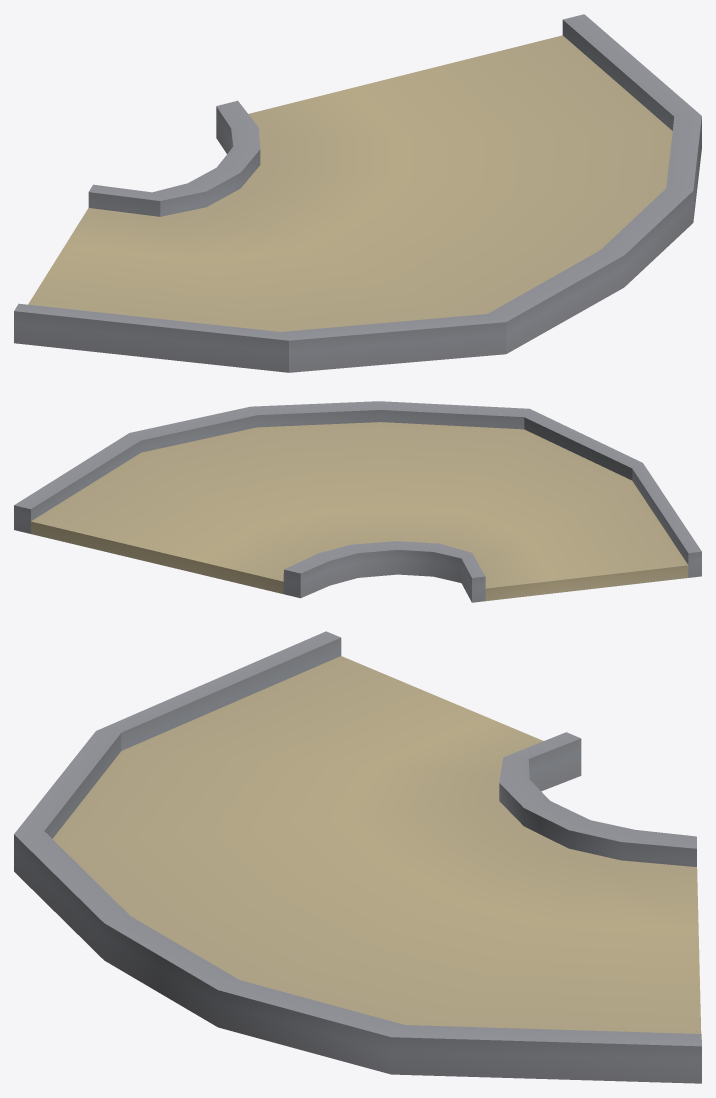
File: sidewalk_20.fbx
3 views of the same model, one above another, from view 1: azimuth 30°, elevation 25°; view 2: azimuth 150°, elevation 25°; view 3: azimuth 270°, elevation 25° (orthographic). The views are drawn at different scales.
Visible parts, largest first — view 1: sidewalk_19; view 2: sidewalk_19; view 3: sidewalk_19.
Boxes of the visible parts, bbox=[...] form: sidewalk_19: bbox=[14, 14, 701, 372]; sidewalk_19: bbox=[14, 401, 701, 602]; sidewalk_19: bbox=[14, 631, 701, 1083].
Size of the model in its own units: 0.6455 by 0.0271 by 0.4522.
1 material, 1 textured.
